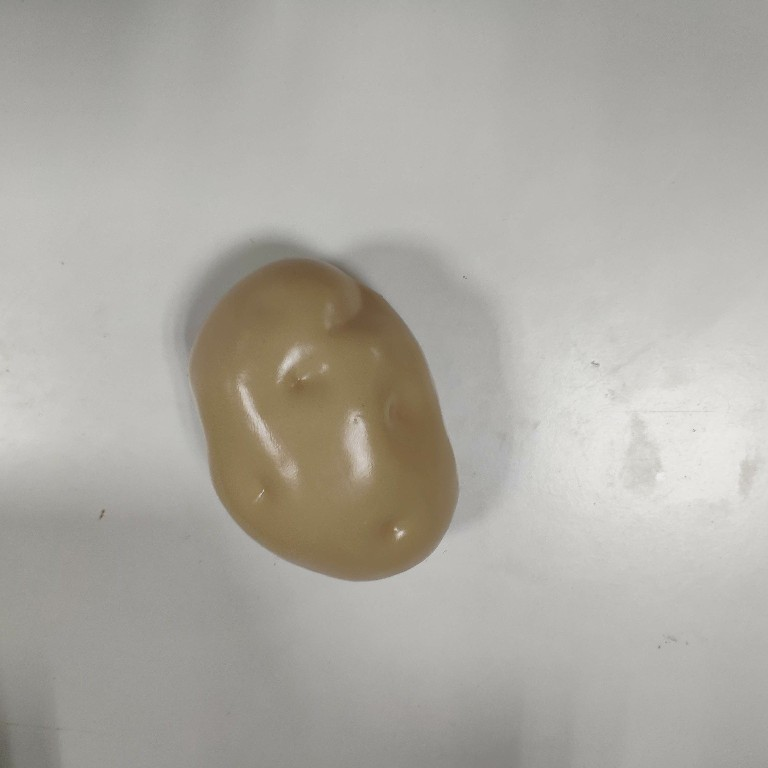fruit_potato: (186, 254, 464, 587)
